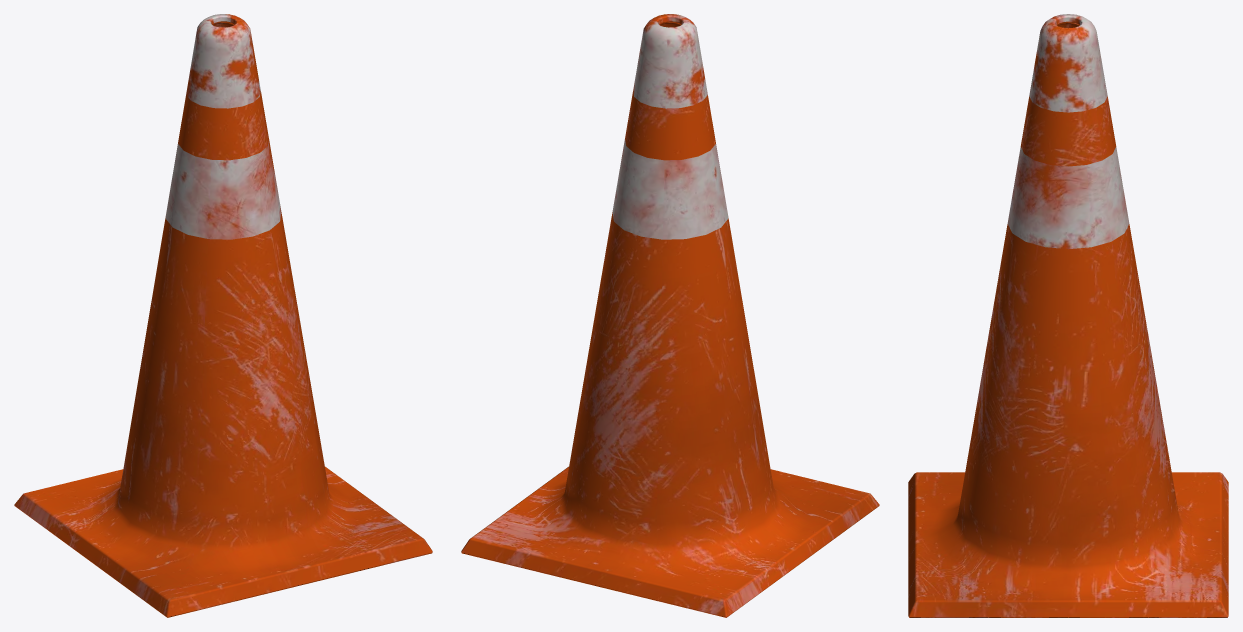
The model's file is traffic_cone.glb.
3 views of the same model, side by side, from view 1: azimuth 30°, elevation 25°; view 2: azimuth 150°, elevation 25°; view 3: azimuth 270°, elevation 25° (orthographic). The views are drawn at different scales.
Visible parts, largest first — view 1: Plane_Baked_Plane_Bake1_baked_0; view 2: Plane_Baked_Plane_Bake1_baked_0; view 3: Plane_Baked_Plane_Bake1_baked_0.
Boxes of the visible parts, x1,y1,x2,y2 form: Plane_Baked_Plane_Bake1_baked_0: [14, 14, 432, 617]; Plane_Baked_Plane_Bake1_baked_0: [461, 14, 879, 617]; Plane_Baked_Plane_Bake1_baked_0: [908, 14, 1228, 617].
Bounding box in the file's own units: 0.3898 × 0.71 × 0.3898.
1 material, 1 textured.
